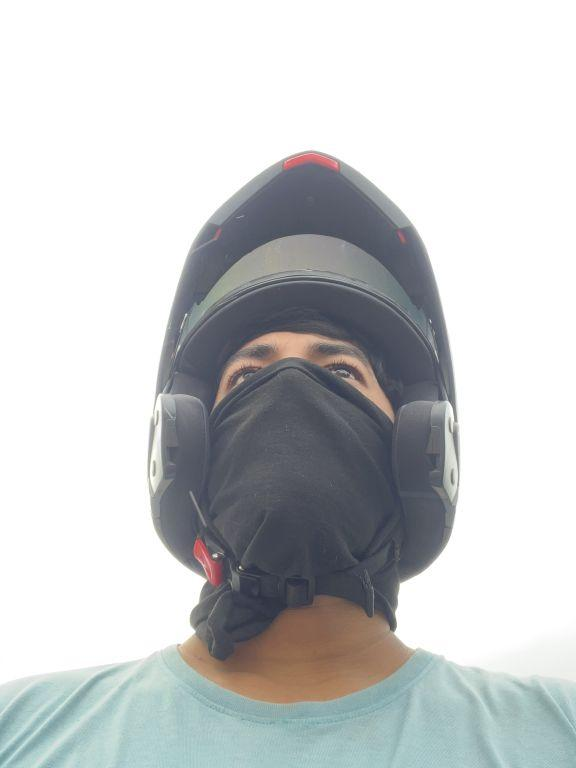helmet: (127, 140, 470, 631)
